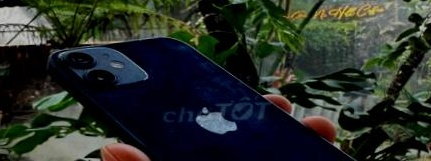scratch: (127, 30, 389, 161)
